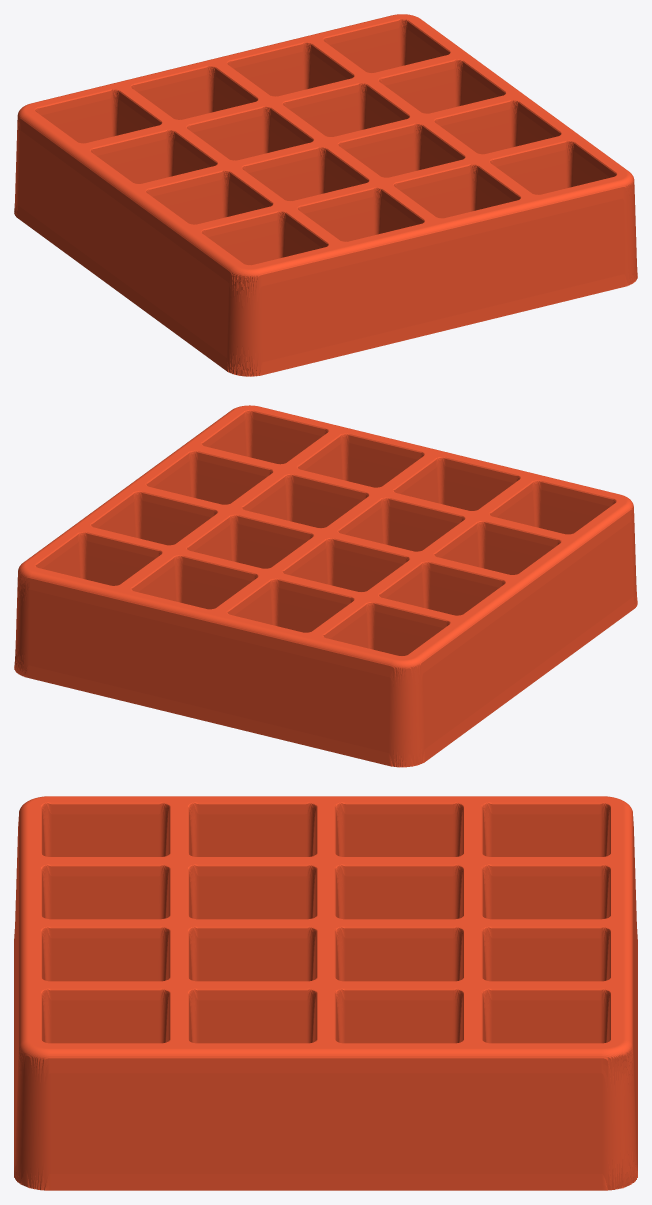
File: mold.glb
3 renders of one model, top to bottom at view 1: azimuth 30°, elevation 25°; view 2: azimuth 150°, elevation 25°; view 3: azimuth 270°, elevation 25°, orthographic. The views are drawn at different scales.
Visible parts, largest first — view 1: geometry_0; view 2: geometry_0; view 3: geometry_0.
Boxes of the visible parts, x1=… form: geometry_0: x1=14, y1=14, x2=637, y2=376; geometry_0: x1=14, y1=405, x2=637, y2=767; geometry_0: x1=14, y1=796, x2=637, y2=1190.
Size of the model in its own units: 0.1569 by 0.0377 by 0.1569.
